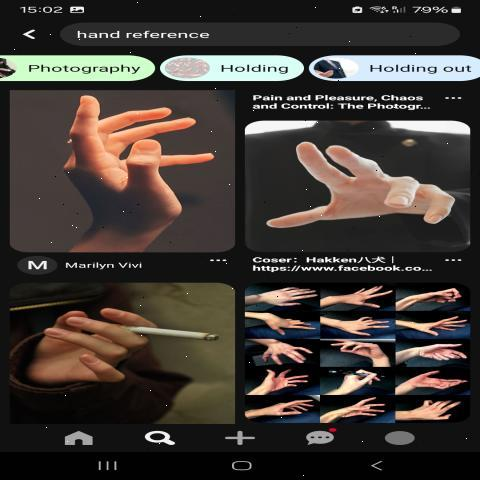Hands: (55, 86, 217, 234), (268, 134, 469, 239), (31, 298, 176, 395), (324, 336, 400, 368), (246, 284, 322, 314), (402, 369, 470, 401), (325, 286, 397, 314), (323, 398, 395, 425), (250, 311, 323, 337), (408, 335, 468, 365), (261, 336, 321, 366), (320, 313, 393, 337), (257, 394, 318, 422), (404, 317, 473, 337), (259, 371, 323, 392)
